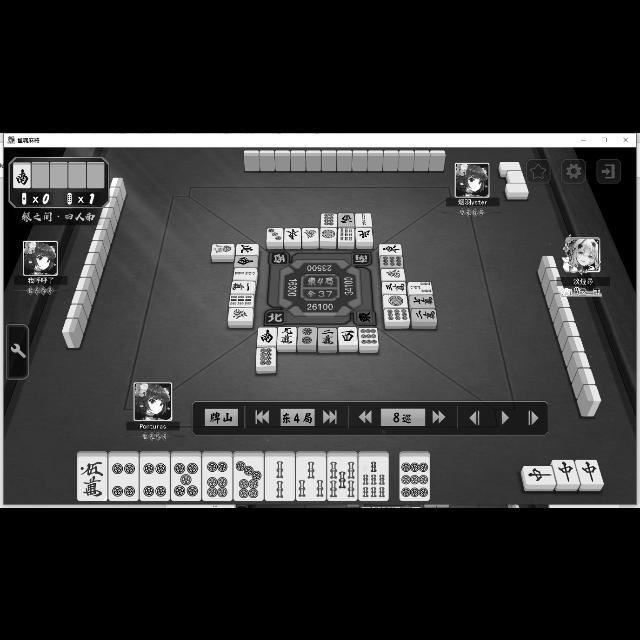1m: (230, 280, 256, 294)
1p: (383, 294, 407, 308), (320, 226, 336, 242)
1s: (212, 243, 234, 254)
2m: (318, 327, 338, 345), (412, 309, 436, 321)
2p: (298, 326, 316, 344)
2s: (265, 456, 295, 499), (232, 266, 258, 280), (356, 212, 374, 226)
3m: (383, 282, 407, 294)
3p: (266, 227, 284, 241)
3s: (296, 456, 326, 499), (408, 282, 434, 294)
4p: (140, 456, 170, 500), (109, 456, 139, 499)
5m: (76, 456, 108, 500)
5p: (171, 456, 201, 500)
5s: (327, 456, 357, 500)
6p: (202, 456, 232, 500)
7m: (409, 295, 435, 307)
7p: (233, 456, 264, 500)
7s: (359, 456, 389, 500)
8p: (256, 346, 276, 366), (321, 212, 337, 226)
9m: (278, 326, 296, 344)
9p: (400, 456, 430, 500), (359, 327, 378, 345), (384, 308, 410, 320), (380, 254, 404, 266)
9s: (228, 293, 254, 307), (338, 228, 354, 242)
chun: (553, 458, 581, 484), (576, 459, 604, 483), (523, 466, 557, 482)
haku: (506, 182, 530, 192), (507, 170, 525, 182), (500, 162, 522, 170)
hatsu: (228, 308, 252, 320), (381, 267, 405, 279), (302, 226, 318, 242)
nan: (14, 164, 30, 188), (258, 327, 276, 345), (234, 256, 258, 266)
pe: (355, 226, 373, 242), (236, 243, 258, 255)
sha: (338, 326, 357, 344), (339, 212, 355, 225)
tou: (379, 243, 403, 254), (285, 228, 301, 240)
